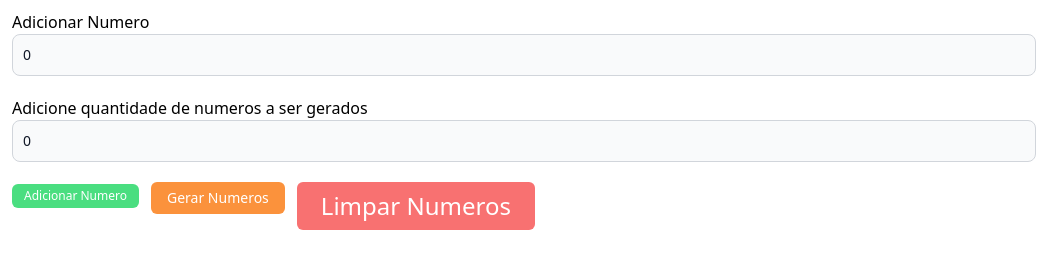
Test case: Home › Deve gerar numeros aleatorios
Replace the text in the number field with test id "quantyNumber" with "5" at (524, 141), box [12, 120, 1036, 162]
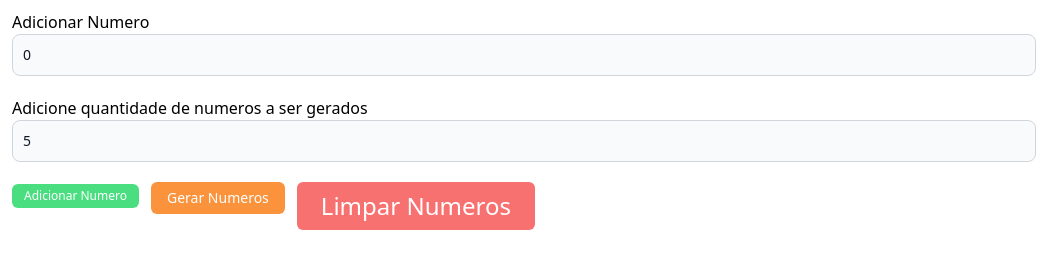
Click the button "Gerar Numeros" at (218, 198), box [151, 182, 285, 214]
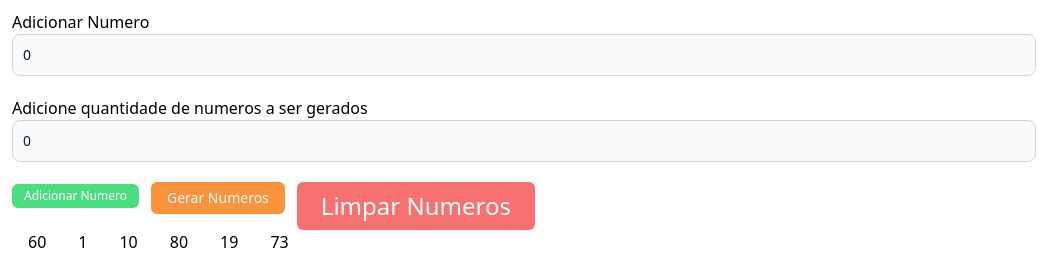
Result: the number field with test id "quantyNumber" holds "0" at [12, 120, 1036, 162]
